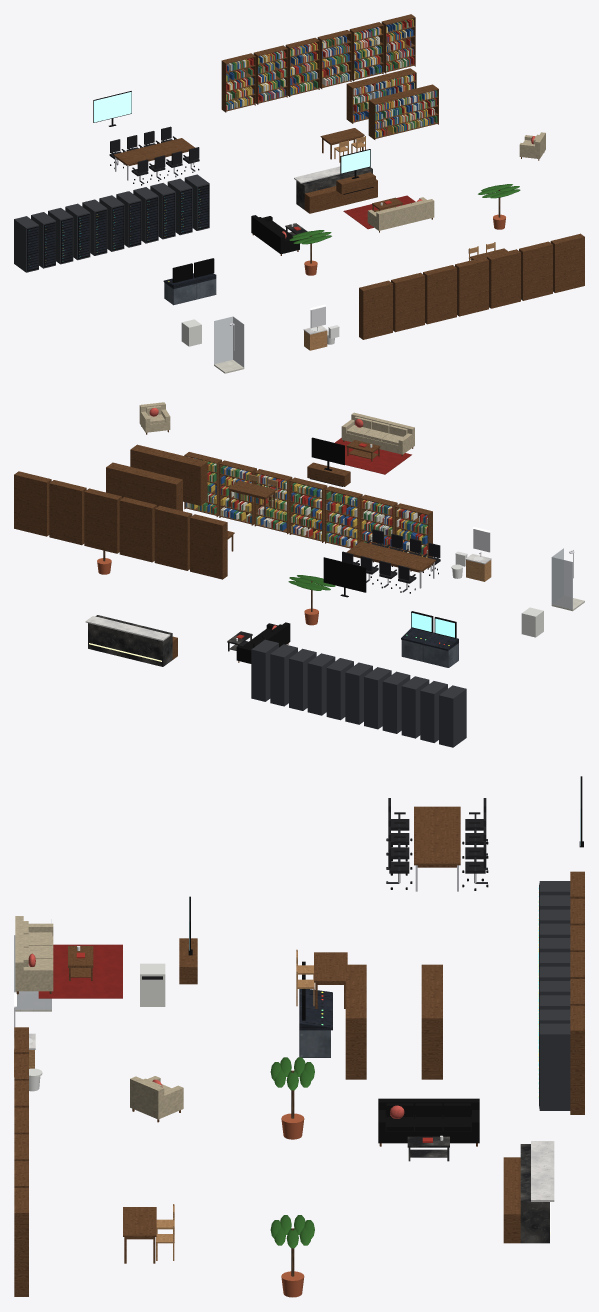
Rendered from i_science_museum.gltf.
3 renders of one model, top to bottom at view 1: azimuth 30°, elevation 25°; view 2: azimuth 150°, elevation 25°; view 3: azimuth 270°, elevation 25°, orthographic. The views are drawn at different scales.
Visible parts, largest first — view 1: I_science_museum; view 2: I_science_museum; view 3: I_science_museum.
Boxes of the visible parts, x1,y1,x2,y2 form: I_science_museum: (14, 14, 584, 373); I_science_museum: (14, 402, 584, 747); I_science_museum: (14, 776, 584, 1297).
Size of the model in its own units: 19.76 by 6.8 by 13.51.
37 materials, 12 textured.
